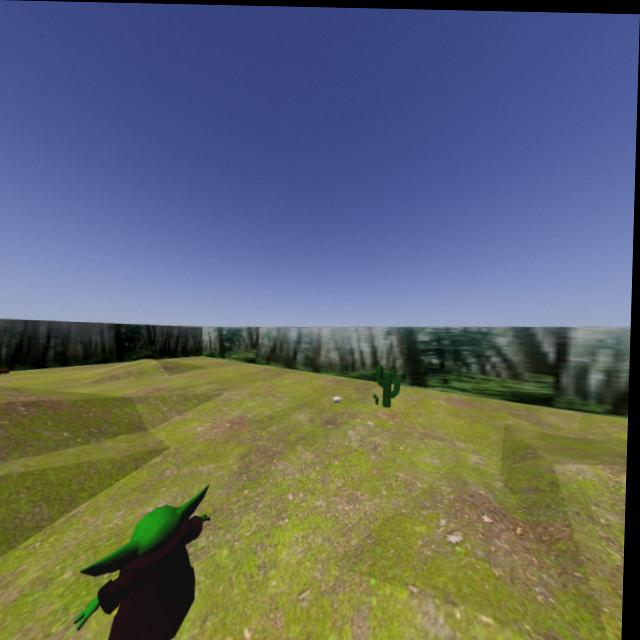yoda: (73, 476, 220, 640)
